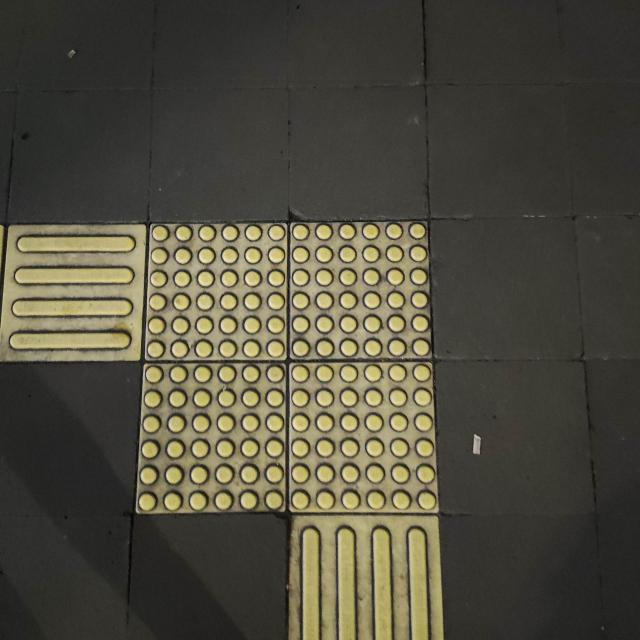kiri: (0, 192, 530, 640)
